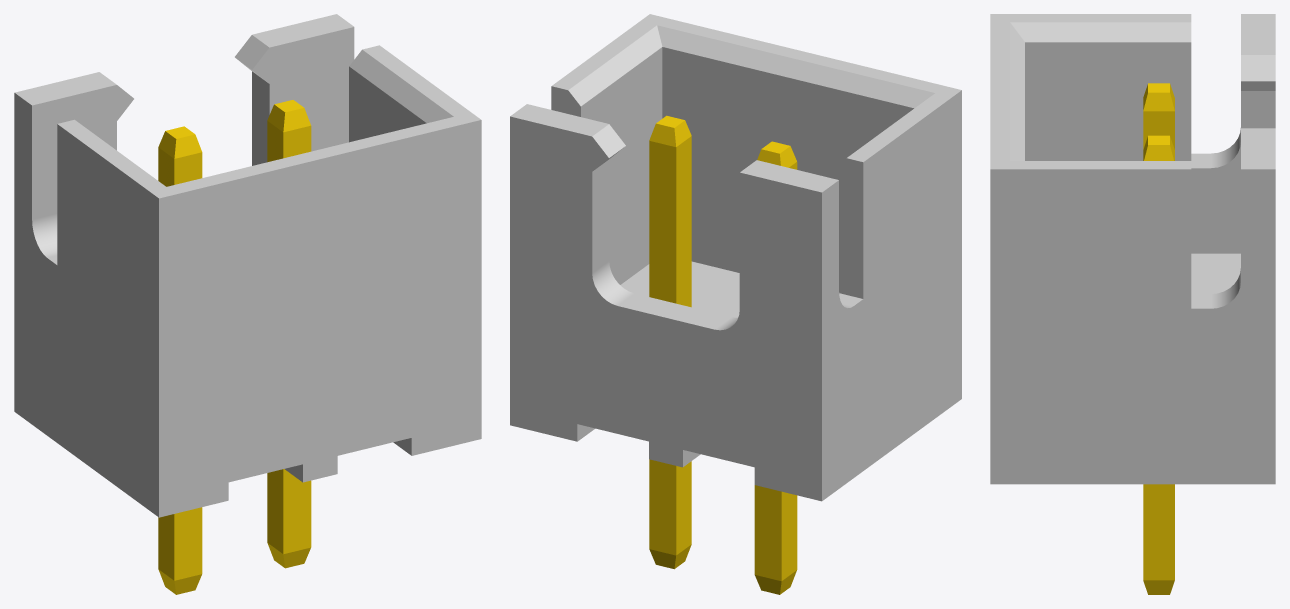
The picture shows the model from 3 angles, left to right: view 1: azimuth 30°, elevation 25°; view 2: azimuth 150°, elevation 25°; view 3: azimuth 270°, elevation 25°; orthographic projection. The views are drawn at different scales.
Visible parts, largest first — view 1: BxB-XH-A; view 2: BxB-XH-A; view 3: BxB-XH-A.
Boxes of the visible parts, x1,y1,x2,y2 form: BxB-XH-A: [14, 14, 481, 594]; BxB-XH-A: [510, 14, 961, 594]; BxB-XH-A: [990, 14, 1275, 594].
Bounding box in the file's own units: 0.0074 × 0.0105 × 0.00575.
